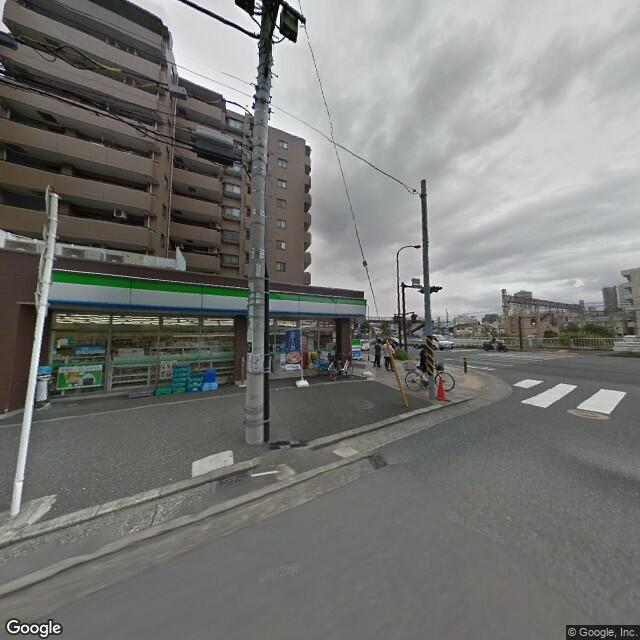family_mart: (51, 267, 366, 317), (349, 339, 361, 357)
